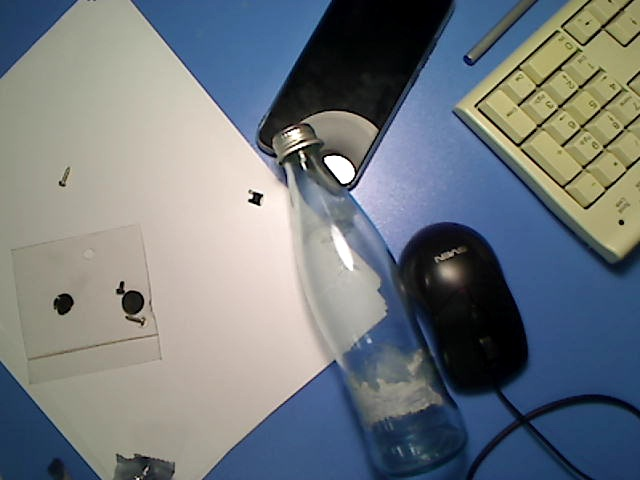bottle: (268, 121, 472, 478)
